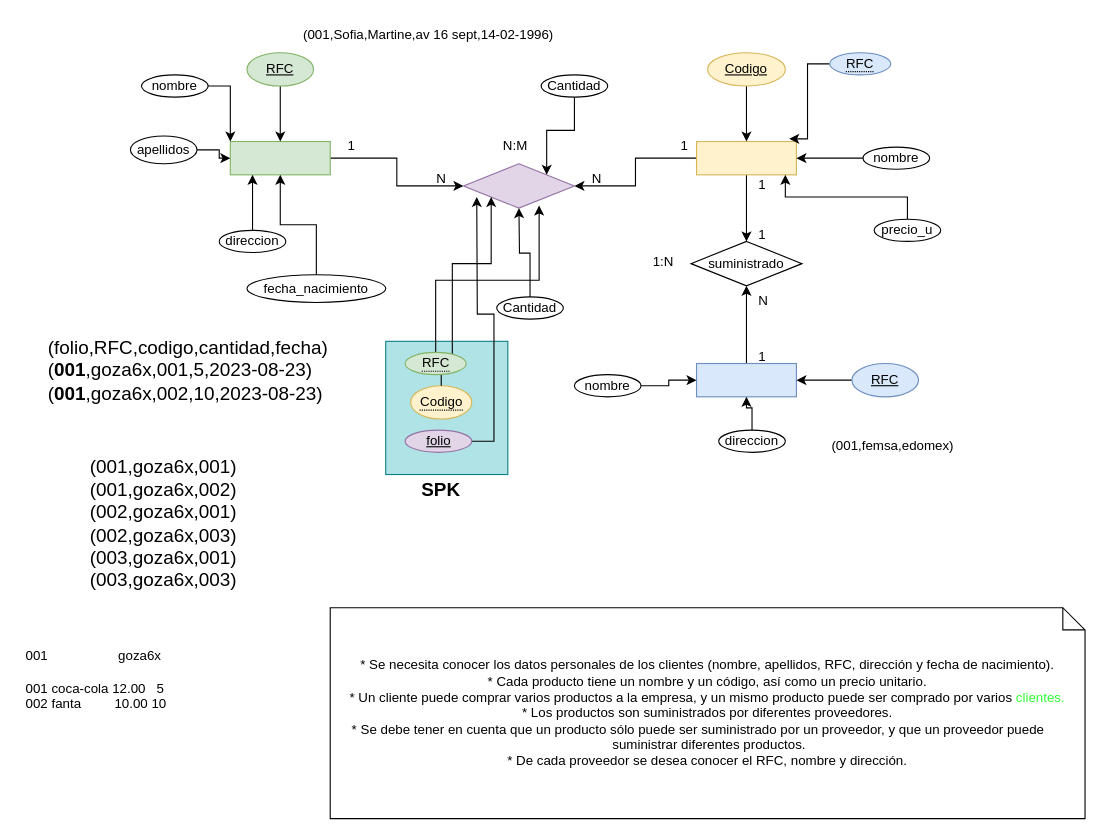
Image size: 1104x838. Some labels were removed from this diagram. Each missing label, with the centre of its shape:
"Cliente" goes at point (279, 157).
"Compra" goes at point (518, 185).
"Producto" goes at point (745, 157).
"Provedores" goes at point (745, 379).
